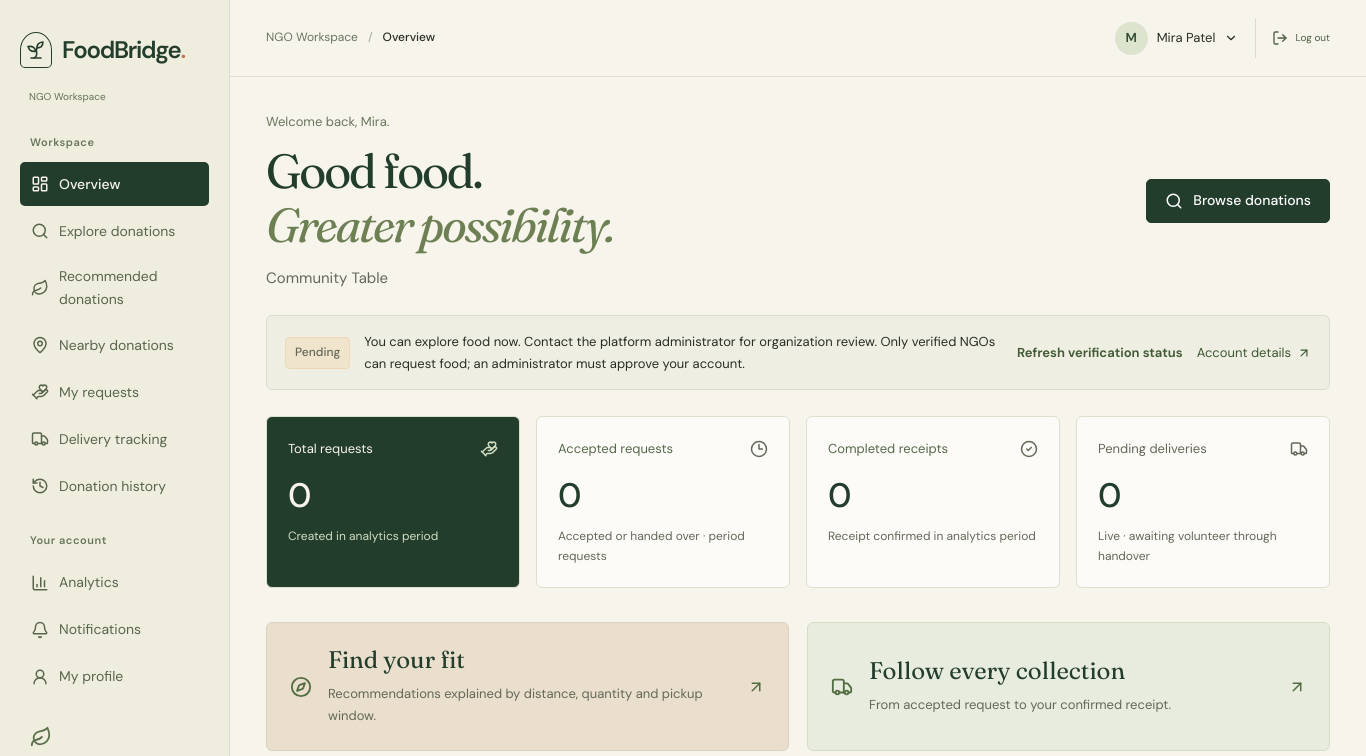
Phase 4 NGO workspace › shows intentional new-account states and verification guidance
Expected: the text "Only verified NGOs can request food" is shown, [364,333,995,372]
Expected: the text "0" below "Total requests" is shown, [288,473,310,518]
Click the button "Refresh verification status": {"x": 1100, "y": 353} [1017,336,1183,369]
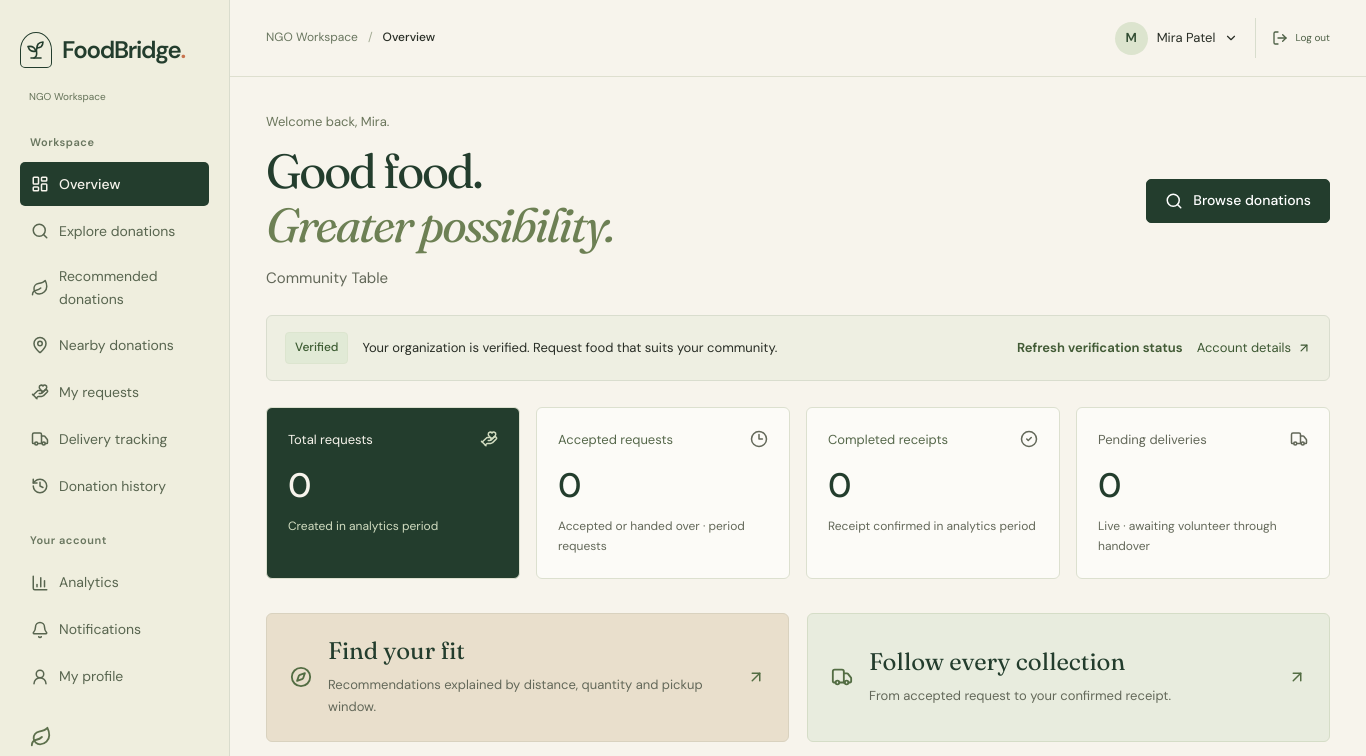
Expected: the text "Your organization is verified" is shown, [362,339,777,356]
